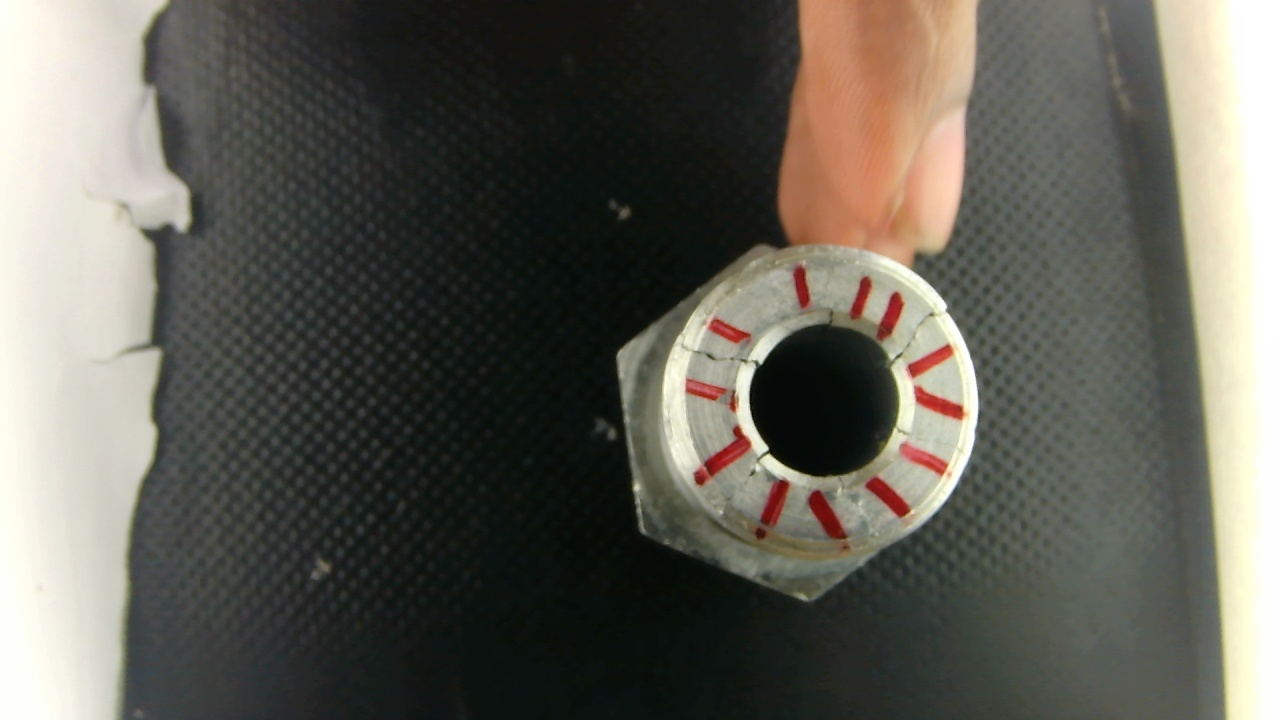crack: (680, 331, 763, 368)
